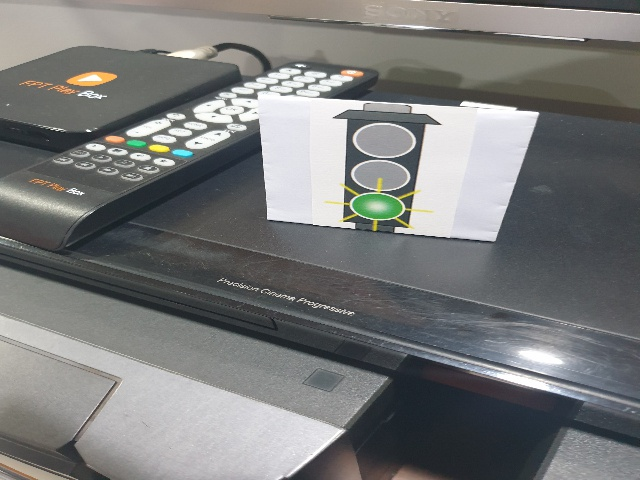Green Light: (327, 102, 436, 236)
